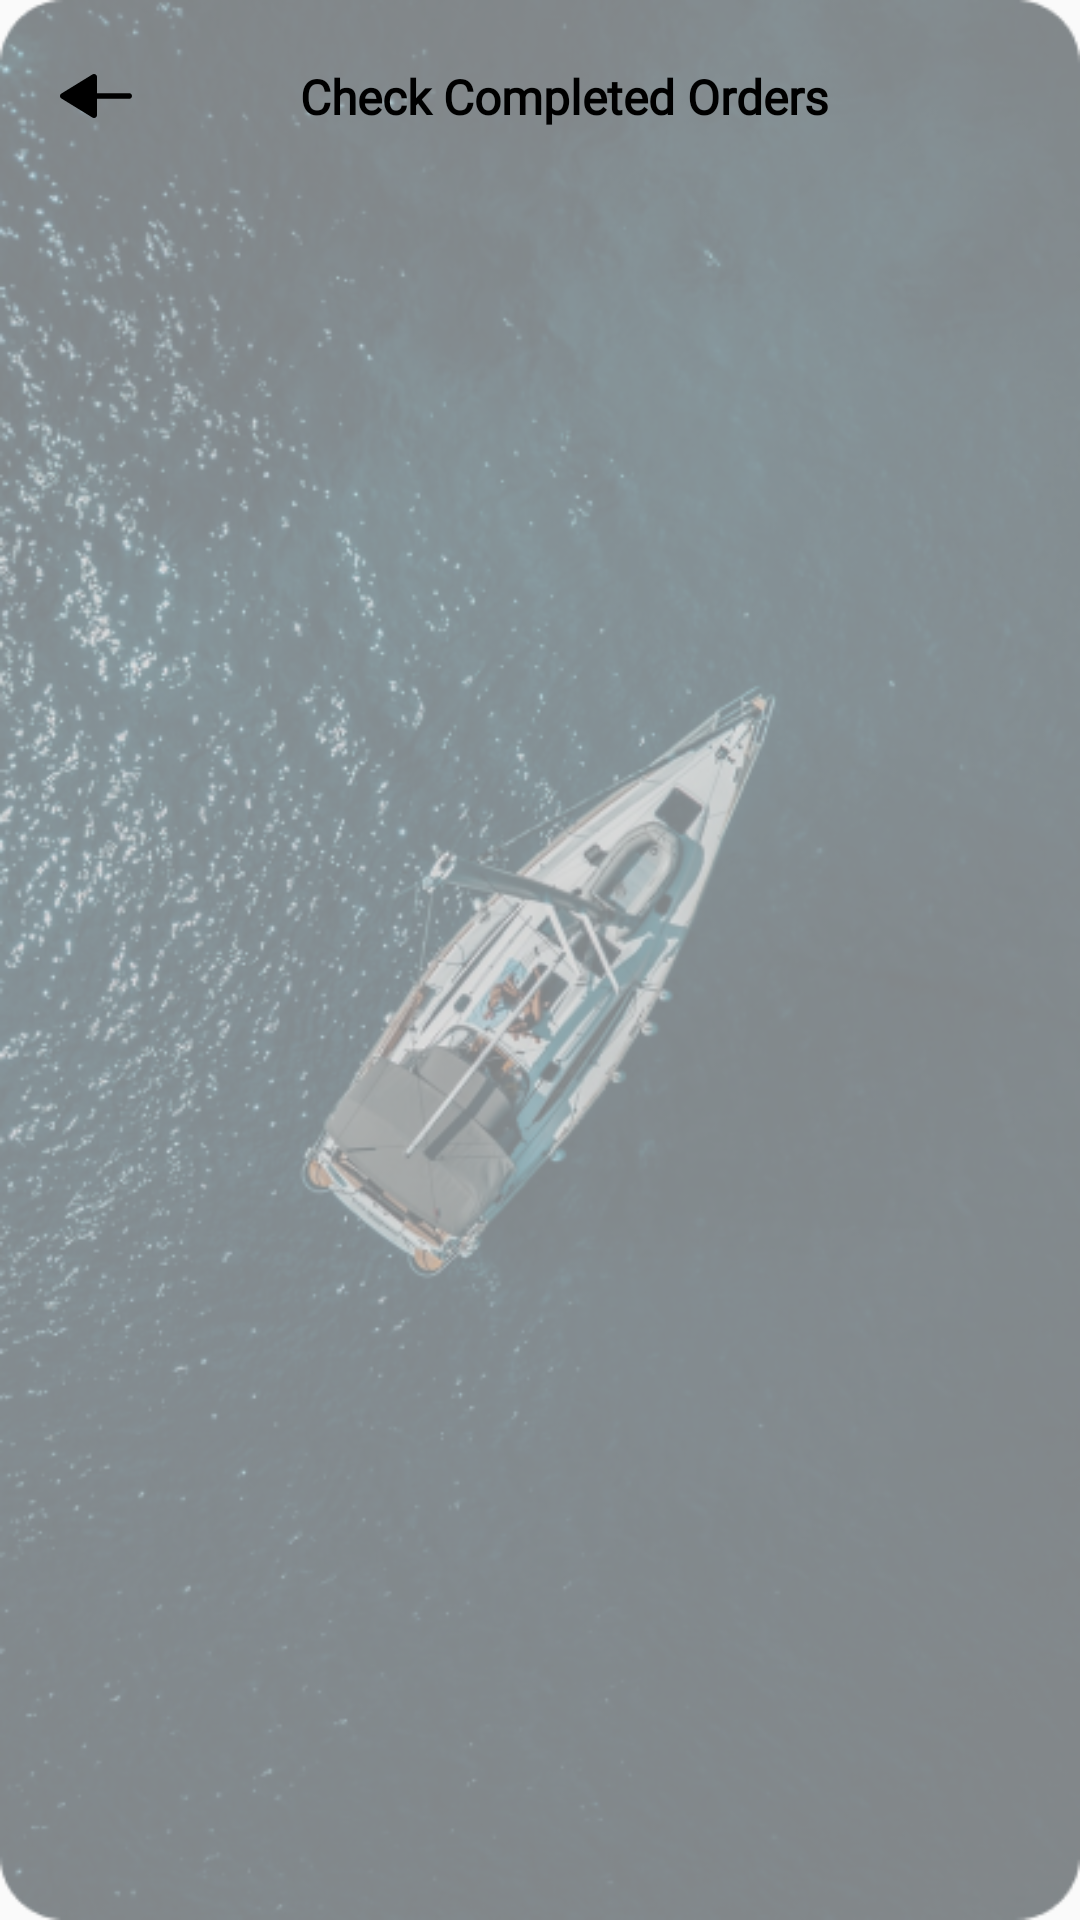

Locate icon controls on the screen. Image size 1080px x 1920px, boxes as [left=x1, top=y1, right=x2, bottom=y2].
backarrowblack: [left=60, top=74, right=132, bottom=144]
